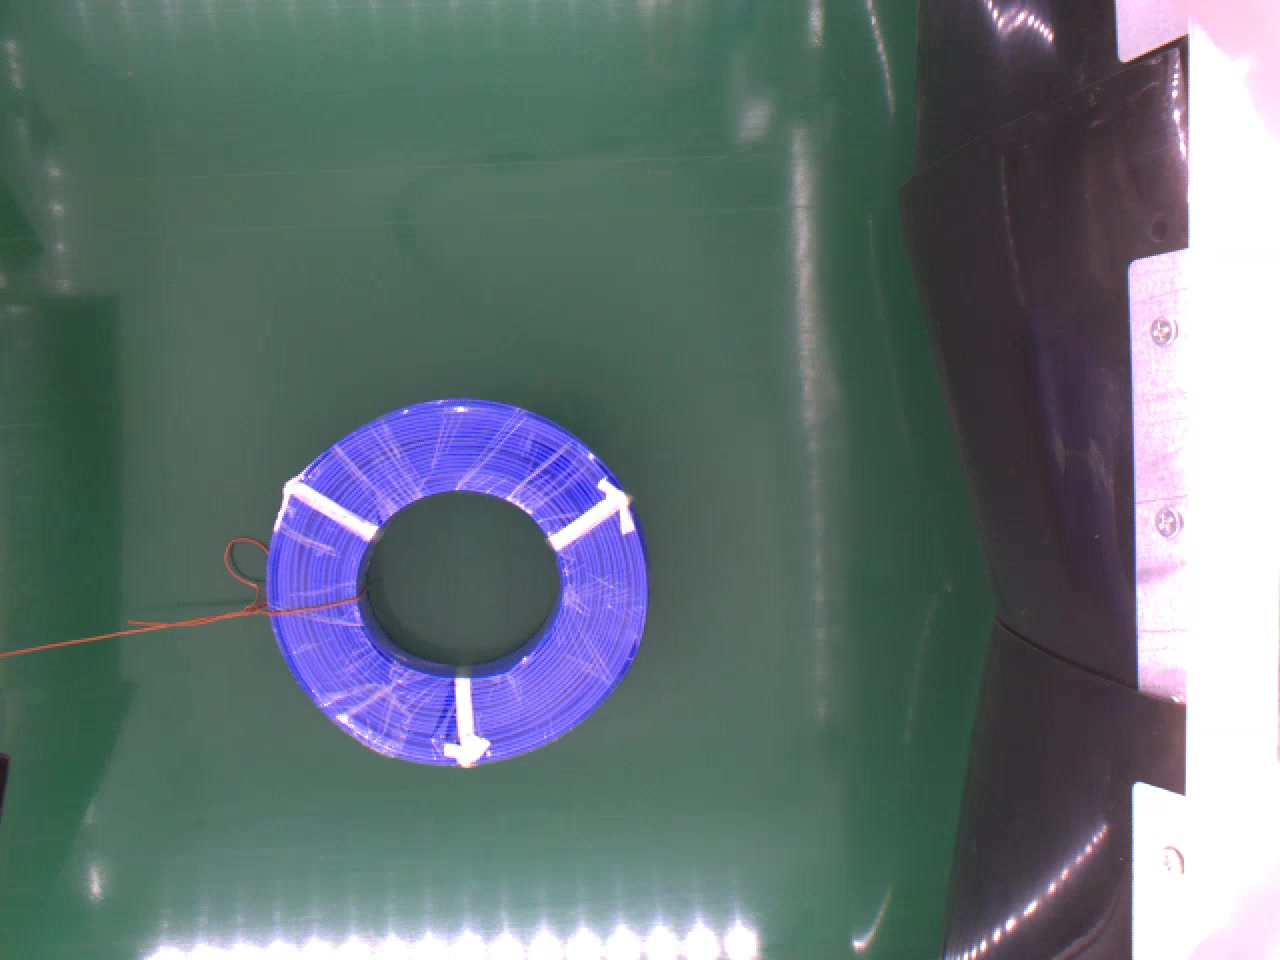blue: (262, 392, 656, 764)
